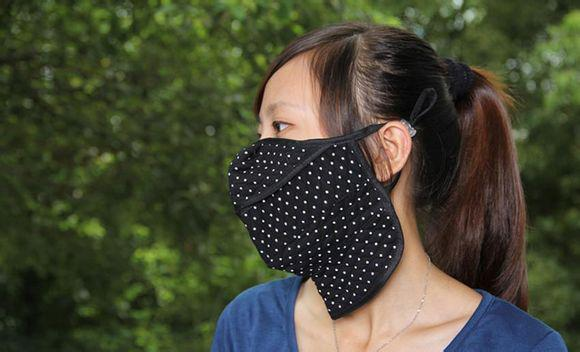OK: (234, 89, 401, 256)
